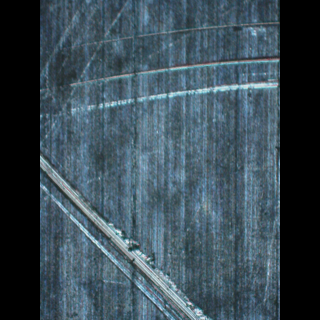d: (40, 142, 212, 320), (50, 14, 279, 126)
